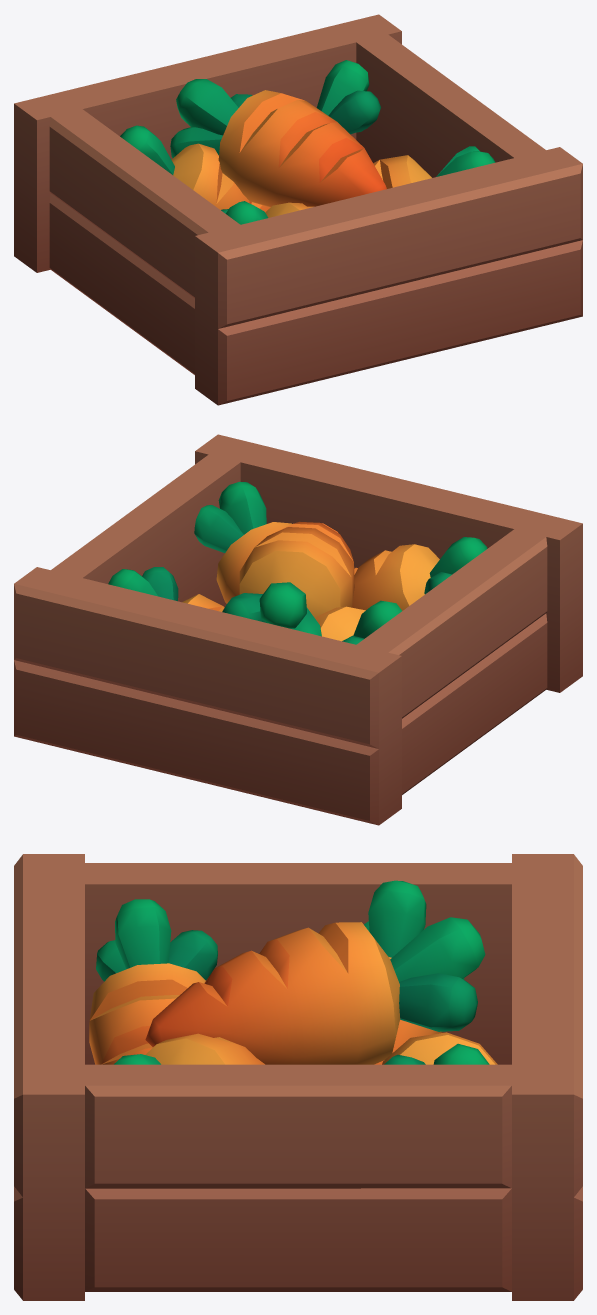
Rendered from Crate of Carrots.glb.
3 views of the same model, one above another, from view 1: azimuth 30°, elevation 25°; view 2: azimuth 150°, elevation 25°; view 3: azimuth 270°, elevation 25° (orthographic). The views are drawn at different scales.
Parts seen in each view (by area): view 1: crate_carrots; view 2: crate_carrots; view 3: crate_carrots.
Boxes of the visible parts, x1,y1,x2,y2 form: crate_carrots: [14, 14, 582, 405]; crate_carrots: [14, 434, 582, 825]; crate_carrots: [14, 854, 582, 1300].
Bounding box in the file's own units: 2 × 0.9432 × 2.
Materials: 1 (1 with a texture image).
